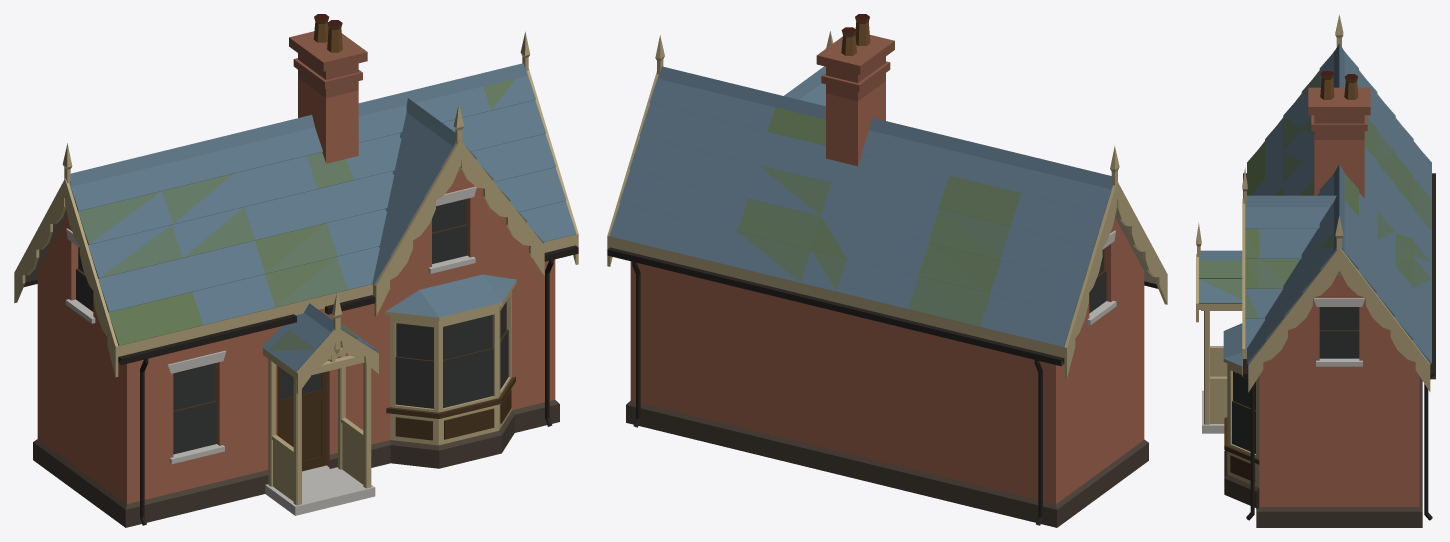
File: crossing-keeper-s-cottage-de49a4.glb
The picture shows the model from 3 angles, left to right: view 1: azimuth 30°, elevation 25°; view 2: azimuth 150°, elevation 25°; view 3: azimuth 270°, elevation 25°; orthographic projection. The views are drawn at different scales.
Visible parts, largest first — view 1: cottage, door-leaf; view 2: cottage; view 3: cottage.
Boxes of the visible parts, <box> form: cottage: <box>14,14,578,527</box>; door-leaf: <box>277,366,326,471</box>; cottage: <box>607,14,1167,527</box>; cottage: <box>1196,14,1435,527</box>.
Size of the model in its own units: 8 by 6.86 by 3.99.
